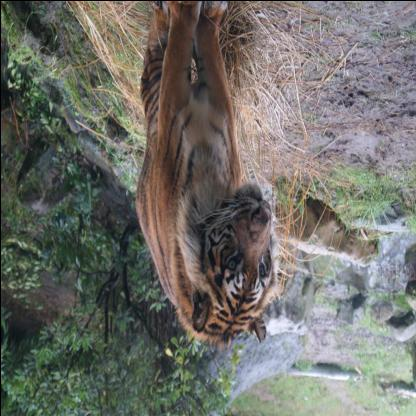tiger: (186, 192, 288, 334)
